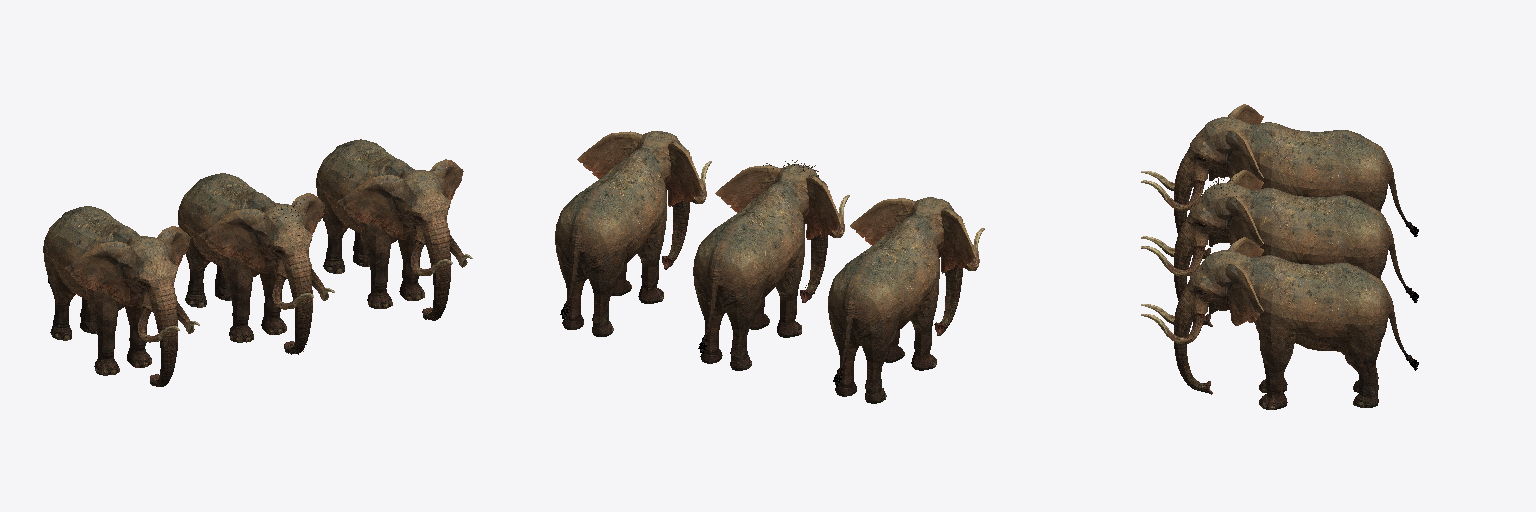
The picture shows the model from 3 angles: view 1: azimuth 30°, elevation 25°; view 2: azimuth 150°, elevation 25°; view 3: azimuth 270°, elevation 25°; orthographic projection.
Parts seen in each view (by area): view 1: Geometry Group bs blink_R, Geometry Group blink_L bs, Geometry Group body_main; view 2: Geometry Group bs blink_R, Geometry Group blink_L bs, Geometry Group body_main; view 3: Geometry Group blink_L bs, Geometry Group body_main, Geometry Group bs blink_R.
Boxes of the visible parts, box(x1,y1,x2,y2) form: Geometry Group bs blink_R: box(43, 206, 199, 386); Geometry Group blink_L bs: box(316, 139, 472, 320); Geometry Group body_main: box(178, 173, 334, 353); Geometry Group bs blink_R: box(828, 197, 984, 403); Geometry Group blink_L bs: box(555, 131, 711, 336); Geometry Group body_main: box(693, 164, 849, 370); Geometry Group blink_L bs: box(1141, 237, 1418, 409); Geometry Group body_main: box(1141, 170, 1418, 326); Geometry Group bs blink_R: box(1141, 104, 1418, 258).
Bounding box in the file's own units: 643 × 230 × 389.
3 materials, 1 textured.